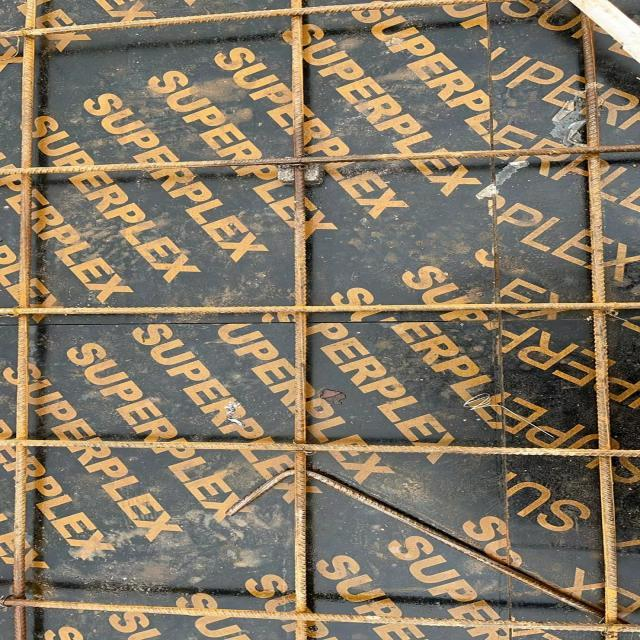ribbed bar: (313, 466, 606, 621), (580, 14, 621, 640), (0, 597, 639, 635), (0, 143, 639, 175), (1, 0, 509, 40), (11, 0, 35, 639), (0, 438, 639, 458), (290, 0, 310, 639), (0, 302, 639, 316)
